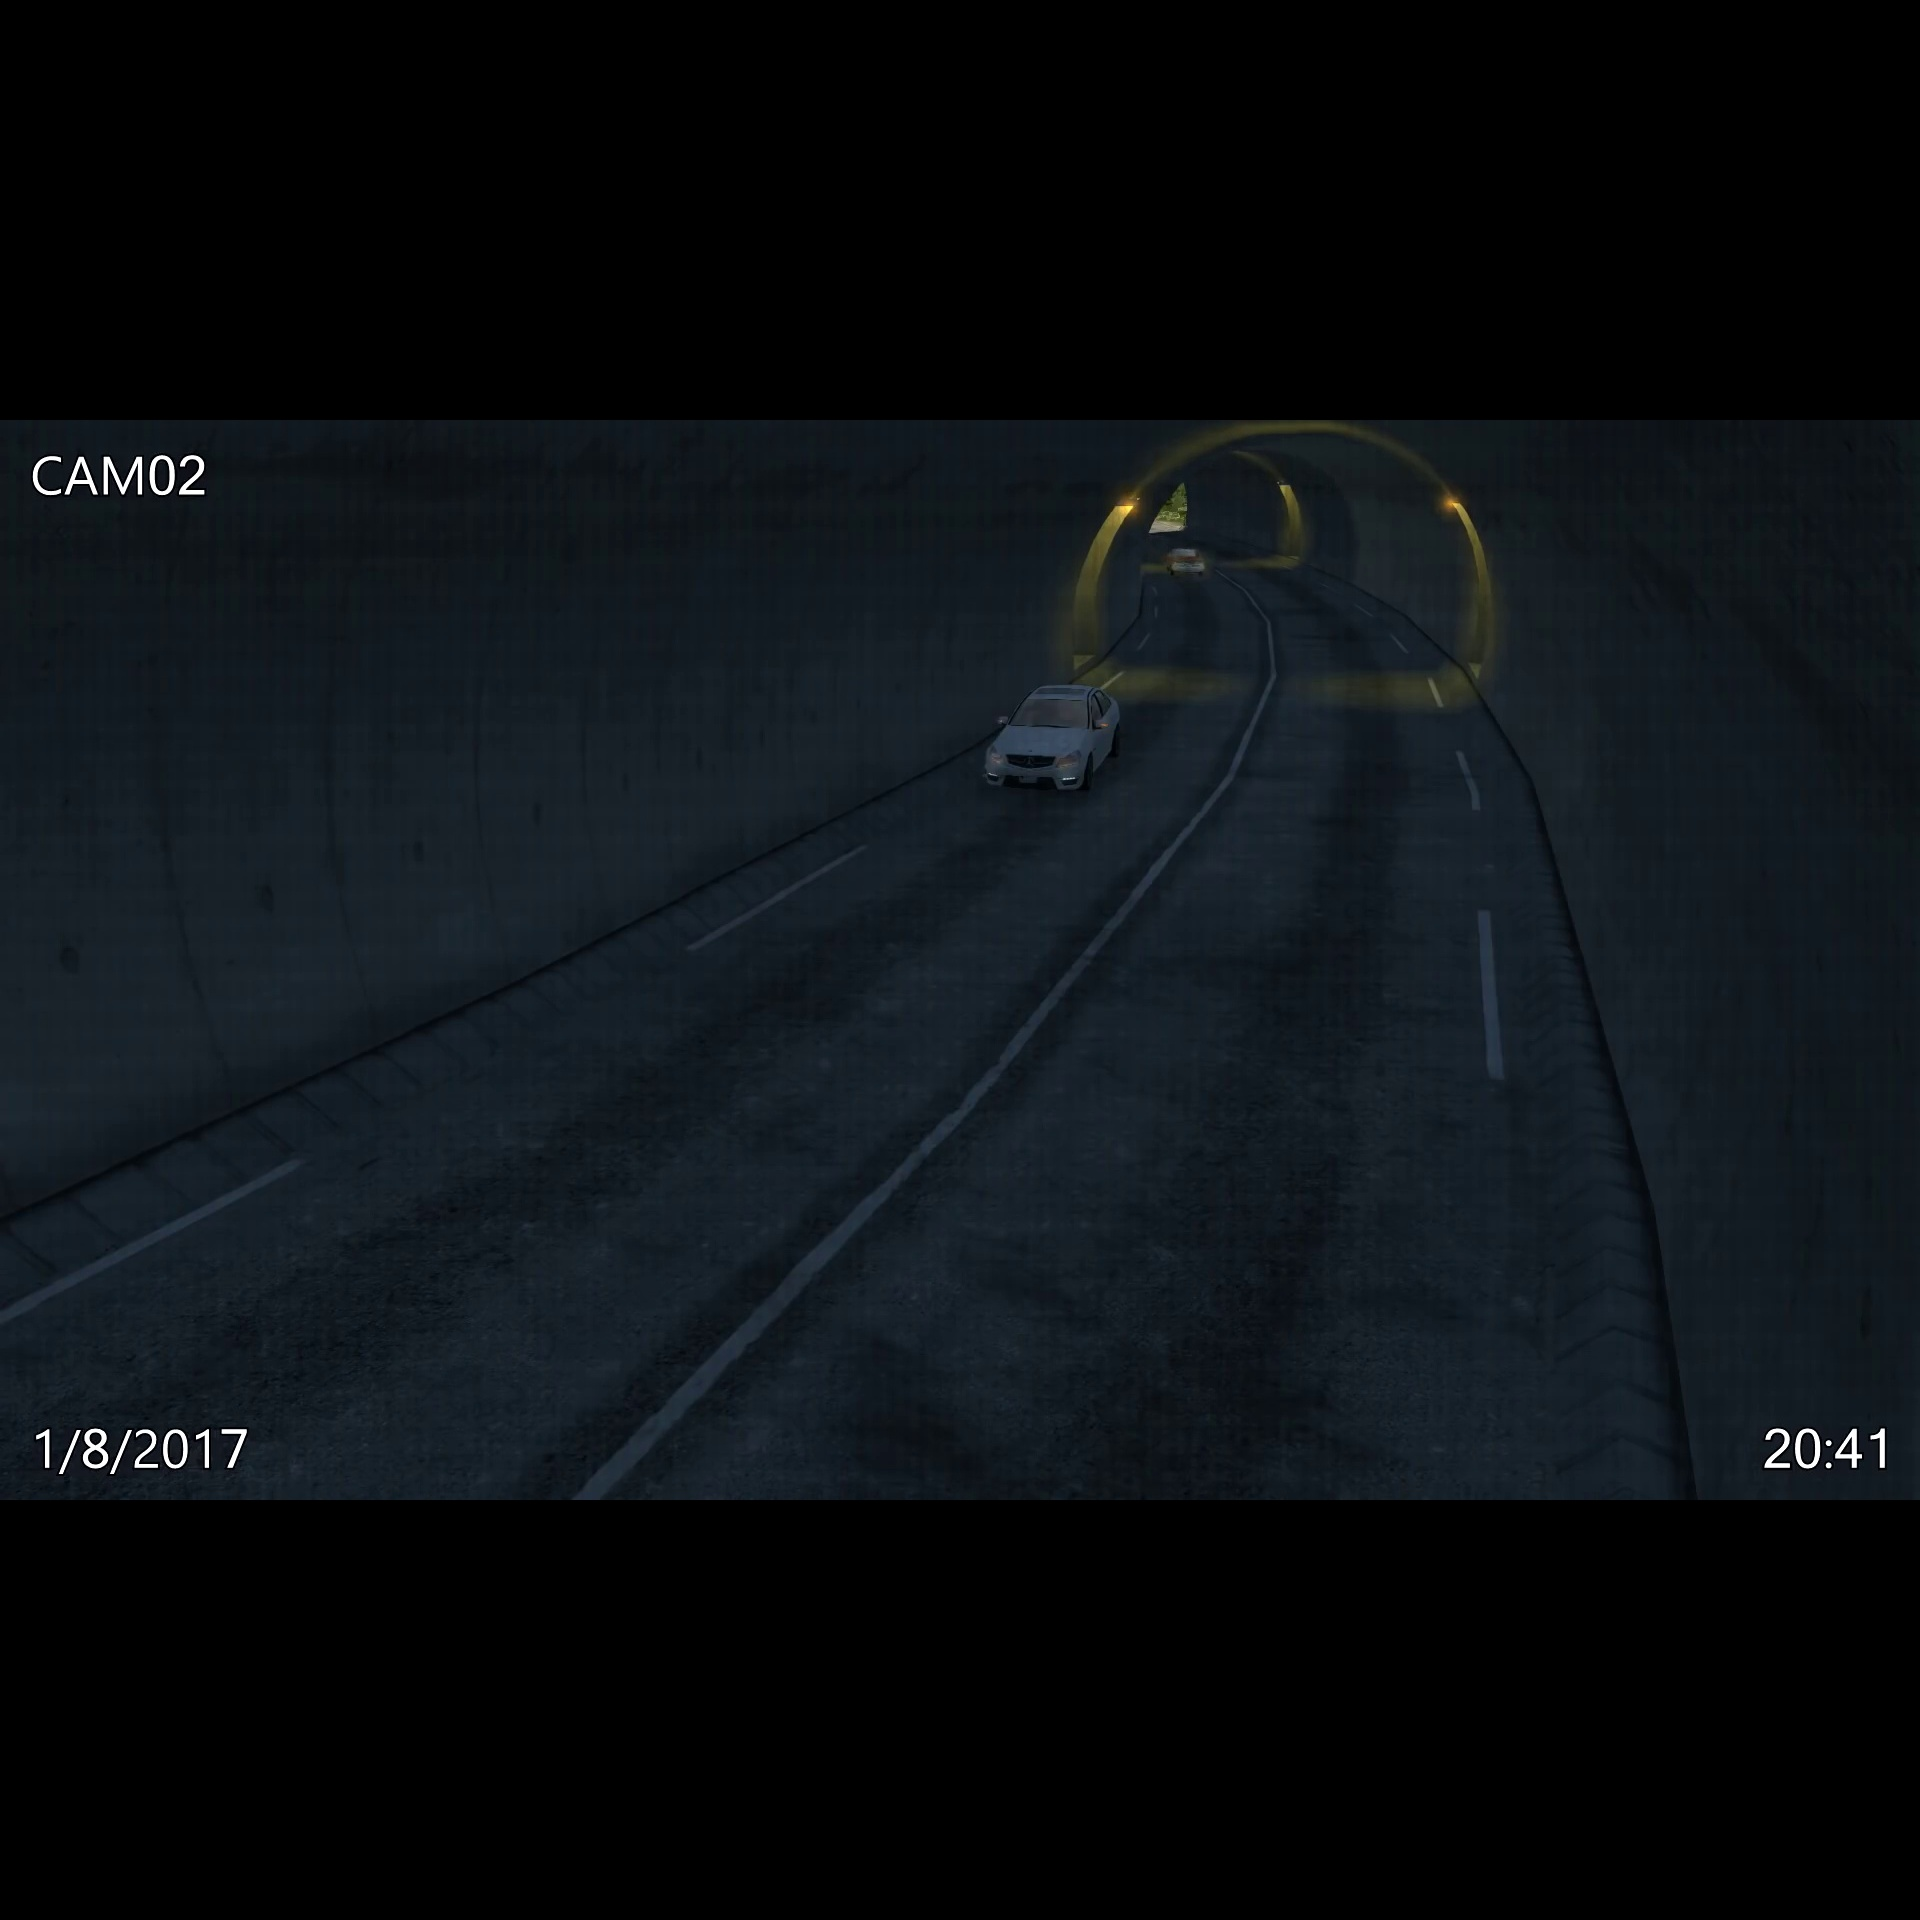vehicle: (979, 677, 1127, 802), (1160, 545, 1215, 584)
